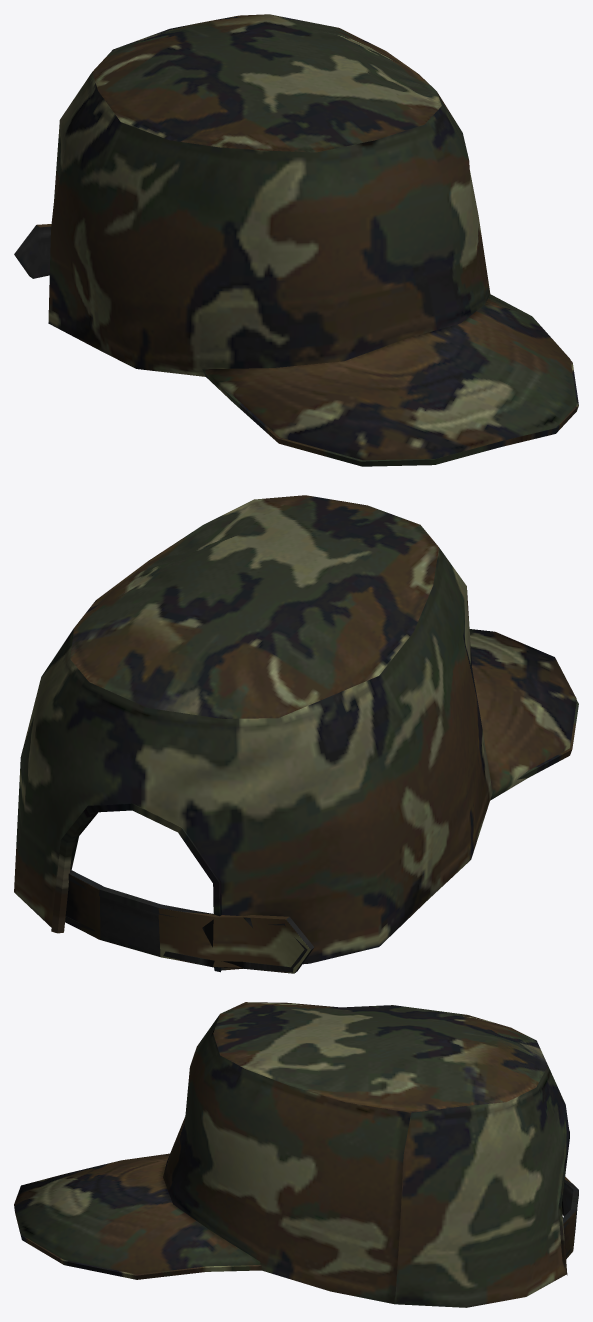
Rendered from Hat 12.FBX.
3 renders of one model, top to bottom at view 1: azimuth 30°, elevation 25°; view 2: azimuth 150°, elevation 25°; view 3: azimuth 270°, elevation 25°, orthographic. The views are drawn at different scales.
Visible parts, largest first — view 1: hat 12; view 2: hat 12; view 3: hat 12.
Boxes of the visible parts, x1,y1,x2,y2 form: hat 12: (14, 14, 578, 466); hat 12: (14, 495, 578, 973); hat 12: (14, 1002, 578, 1307).
Size of the model in its own units: 18.01 by 13.21 by 30.85.
1 material, 1 textured.
